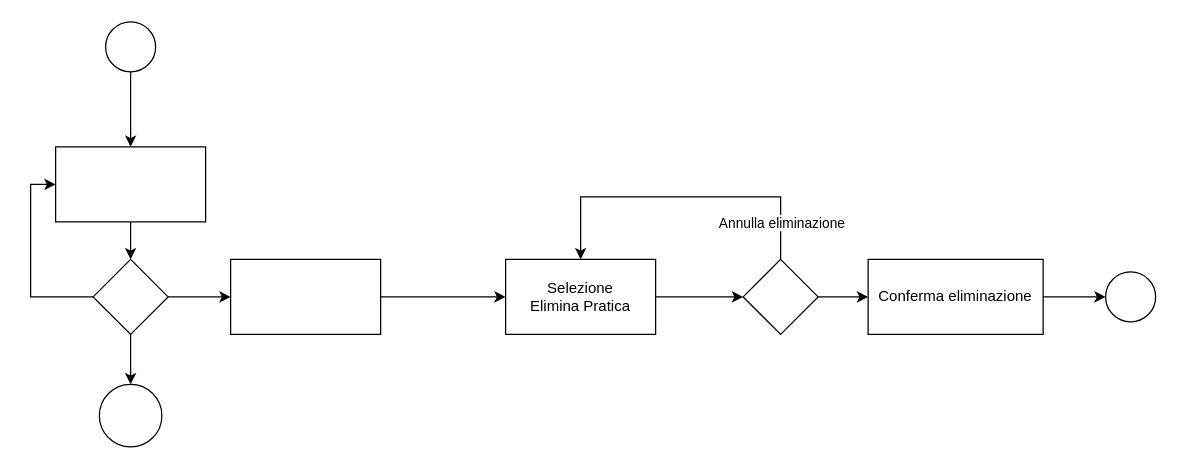
The diagram is 1178 pixels wide and 469 high, and some of its shapes have lost their labels. Each missing label, with the centre of its shape:
"Inserimento email e password" belongs at (x=130, y=184).
"Selezione pratica" belongs at (x=305, y=296).
